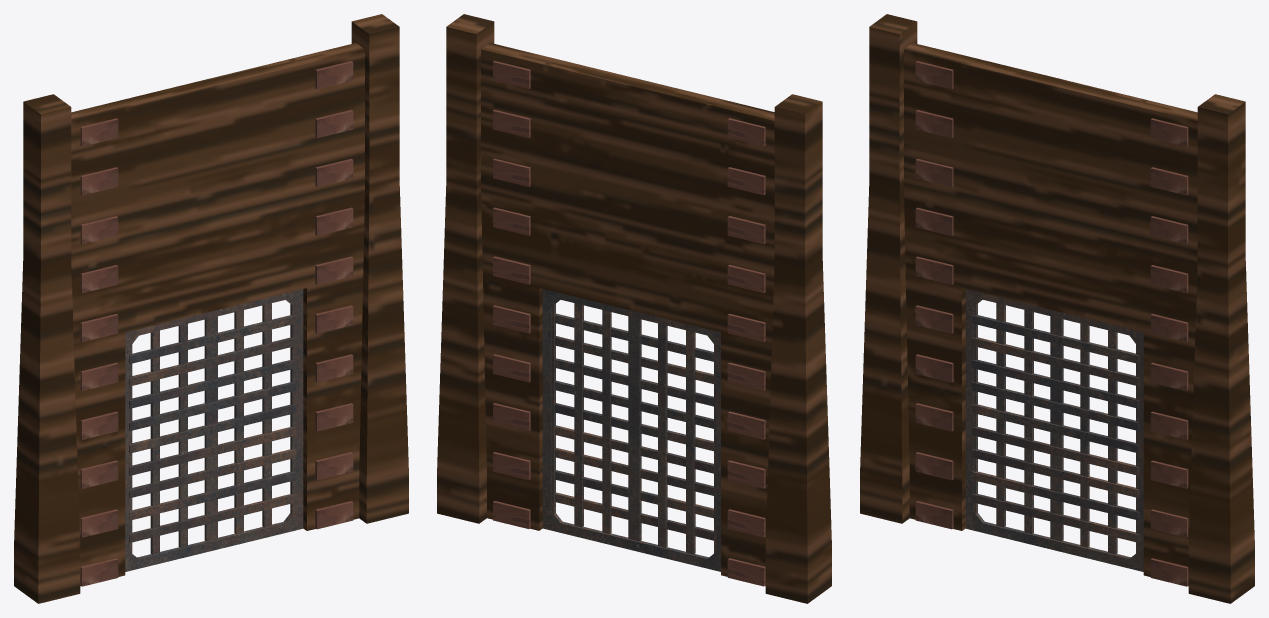
Rendered from i_gate.fbx.
3 renders of one model, left to right at view 1: azimuth 30°, elevation 25°; view 2: azimuth 150°, elevation 25°; view 3: azimuth 330°, elevation 25°, orthographic.
Parts seen in each view (by area): view 1: i_gate, gate; view 2: i_gate, gate; view 3: i_gate, gate.
Part boxes in pixels (box(x1,y1,x2,y2)): i_gate: box(14, 14, 408, 603); gate: box(125, 289, 303, 571); i_gate: box(437, 14, 831, 603); gate: box(542, 289, 720, 571); i_gate: box(860, 14, 1254, 603); gate: box(965, 289, 1143, 571).
Bounding box in the file's own units: 442 × 554 × 50.22.
Materials: 1 (1 with a texture image).
